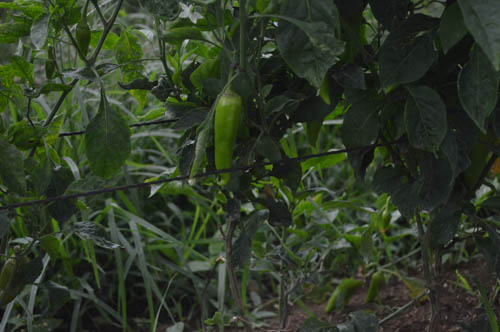ChiliPepper: (213, 95, 239, 176)
